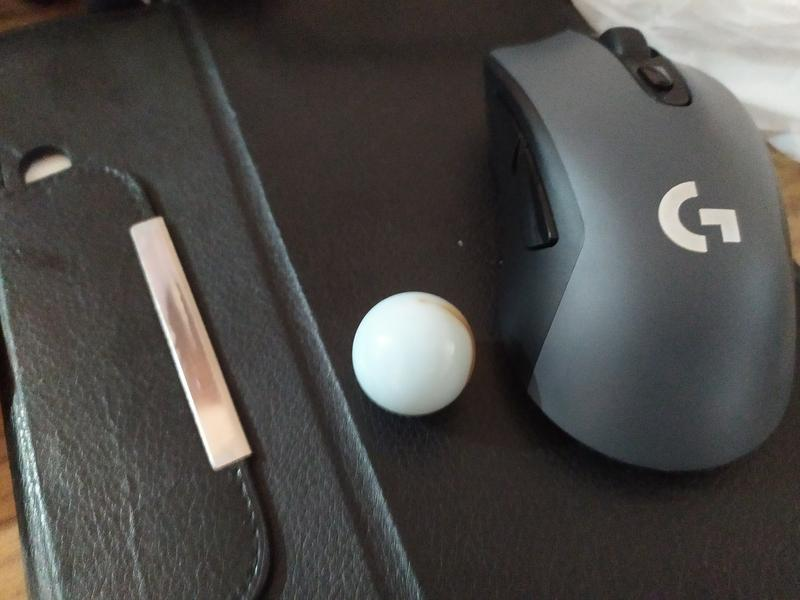Warning: (348, 287, 480, 419)
